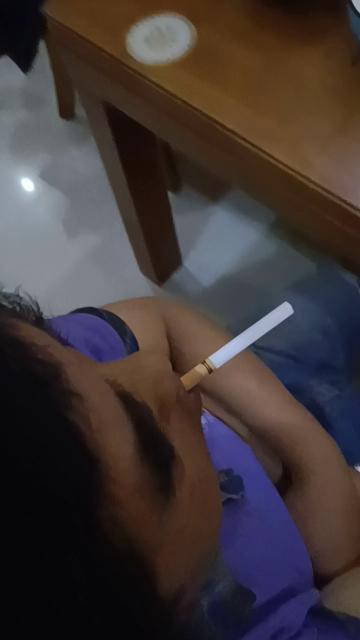Cigarette: (182, 301, 296, 391)
